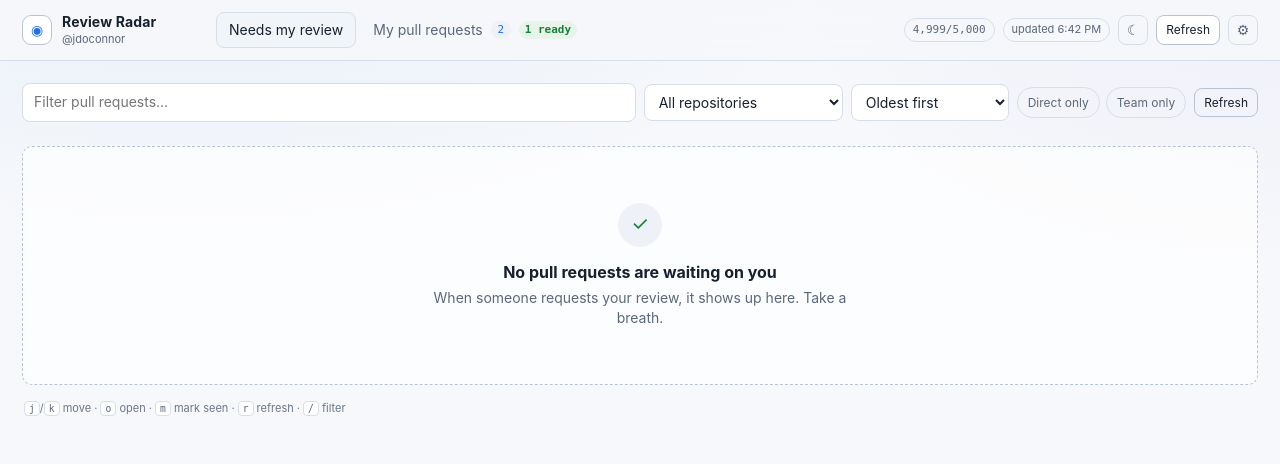
the stack message on a waiting pull request › links to the pull request whose head branch it merges into
The width and height of the screenshot is (1280, 464).
Click the button with test id "tab-mine". click: (475, 30)
box: [360,12,590,48]
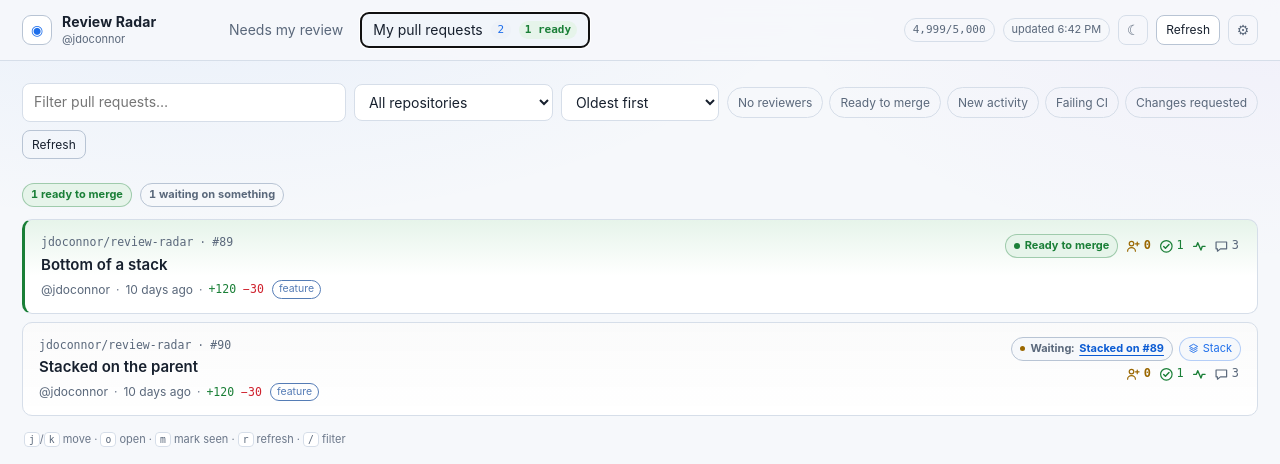
expect the link "Bottom of a stack" is shown: met, box [41,255,167,274]
expect the element with test id "merge-readiness" reads "Waiting: Stacked on #89": met, box [1011,337,1173,360]
expect the link with test id "stacked-on-link" reads "Stacked on #89": met, box [1079,341,1164,356]
